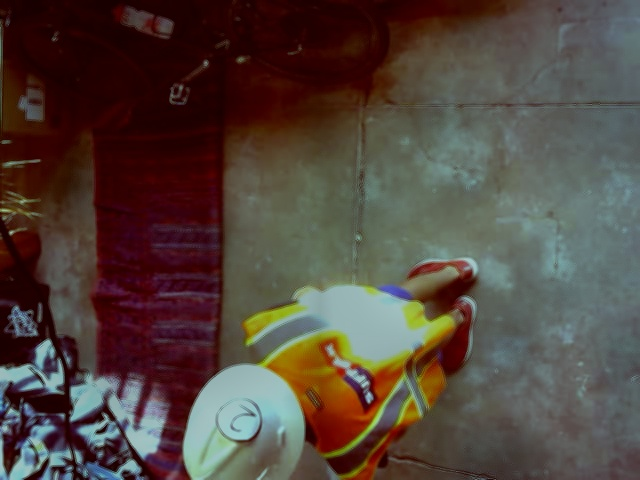two: (214, 398, 261, 441)
